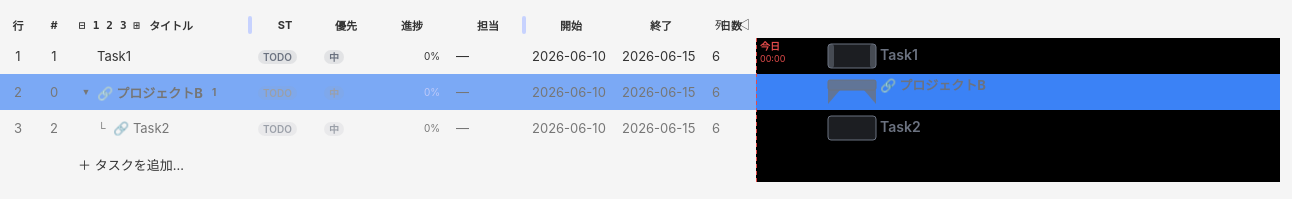
it: クロスプロジェクト参照 — readonly ガード › コンテキストメニュー: 合成グループ行は「参照先プロジェクトを開く」「参照を再読み込み」を出す（解除はなし）
Right-click the text "🔗 プロジェクトB": (150, 92) [97, 82, 203, 102]
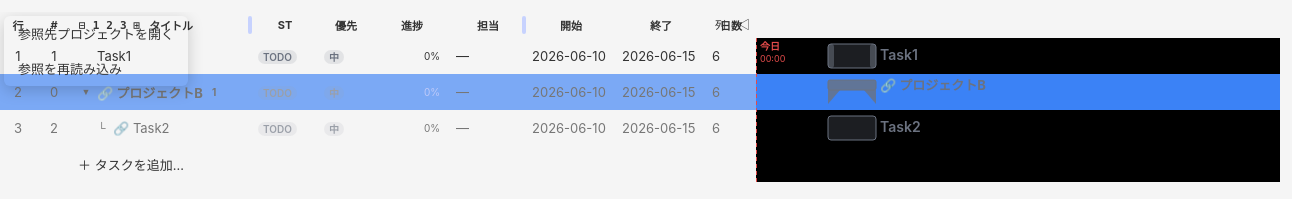
Check: the button "参照先プロジェクトを開く" is shown, box [4, 16, 188, 51]
Check: the button "参照を再読み込み" is shown, box [4, 51, 188, 86]
